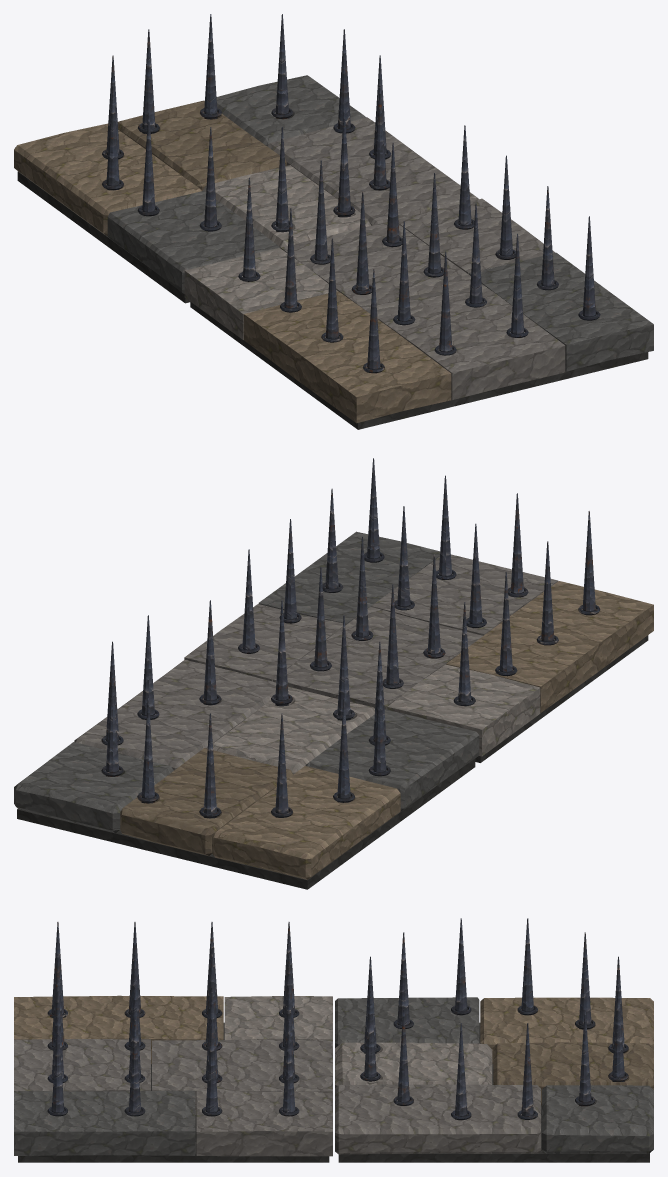
Rendered from trap_chest_spikes_stone.glb.
3 renders of one model, top to bottom at view 1: azimuth 30°, elevation 25°; view 2: azimuth 150°, elevation 25°; view 3: azimuth 270°, elevation 25°, orthographic. The views are drawn at different scales.
Visible parts, largest first — view 1: floor, spikes; view 2: floor, spikes; view 3: floor, spikes.
Part boxes in pixels (x1=…): floor: x1=14, y1=75, x2=653, y2=429; spikes: x1=106, y1=14, x2=595, y2=369; floor: x1=14, y1=531, x2=653, y2=889; spikes: x1=106, y1=458, x2=595, y2=818; floor: x1=14, y1=995, x2=653, y2=1162; spikes: x1=51, y1=918, x2=624, y2=1120.
Size of the model in its own units: 1.99 by 0.918 by 3.99.
Materials: 8 (8 with a texture image).
